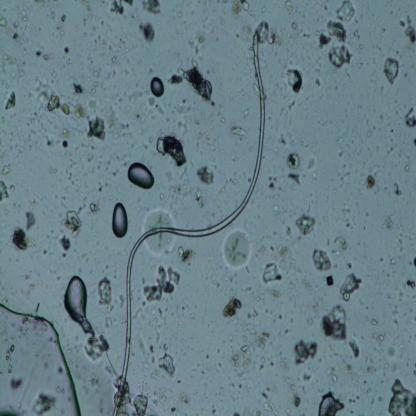Air bubble: (0, 300, 83, 416), (61, 275, 95, 339), (127, 162, 159, 190), (112, 204, 130, 240), (149, 75, 166, 101)
Background material: (222, 320, 284, 374), (142, 210, 178, 258), (140, 264, 182, 305), (219, 229, 255, 270), (384, 370, 416, 416), (185, 64, 216, 106), (156, 133, 188, 168), (320, 305, 349, 343), (290, 336, 323, 366), (27, 387, 60, 416), (106, 107, 132, 142), (0, 9, 24, 46), (253, 21, 287, 47), (269, 239, 295, 273), (259, 381, 284, 416), (176, 95, 200, 131), (338, 272, 364, 302), (46, 92, 74, 119), (328, 43, 355, 70), (314, 390, 344, 414), (85, 334, 108, 364), (74, 0, 101, 25), (106, 38, 130, 66), (285, 65, 305, 98), (221, 297, 245, 324), (294, 266, 314, 298), (324, 234, 348, 260), (0, 51, 24, 77), (230, 0, 261, 20), (168, 176, 190, 204), (382, 58, 404, 86), (193, 163, 218, 187), (84, 116, 107, 142), (340, 362, 362, 389), (30, 72, 50, 101), (60, 210, 84, 234), (261, 262, 283, 287), (155, 352, 177, 377), (26, 102, 42, 136), (334, 1, 362, 20), (11, 228, 30, 256), (327, 21, 350, 44), (310, 250, 334, 272), (96, 278, 113, 308), (339, 201, 357, 229), (295, 213, 316, 236), (129, 393, 153, 413), (260, 304, 285, 323), (286, 13, 304, 39), (4, 340, 16, 378), (146, 94, 166, 115), (35, 42, 54, 64), (56, 235, 73, 259), (55, 124, 72, 148), (140, 20, 156, 45), (360, 352, 376, 377), (174, 243, 193, 264), (348, 338, 363, 364), (83, 371, 101, 392), (7, 380, 27, 398), (194, 127, 211, 148), (286, 150, 302, 172), (362, 172, 378, 194), (402, 106, 416, 131), (128, 86, 146, 105), (140, 1, 164, 15), (90, 63, 99, 100), (327, 366, 342, 388), (0, 178, 13, 203), (288, 169, 304, 189), (23, 209, 38, 230), (230, 126, 252, 140), (108, 0, 126, 17), (165, 71, 184, 87), (264, 286, 283, 302), (380, 216, 396, 235), (4, 92, 19, 112), (339, 163, 353, 184), (189, 38, 205, 56), (374, 325, 386, 349), (133, 106, 147, 126), (392, 180, 406, 200), (280, 0, 297, 16), (86, 200, 102, 217), (0, 159, 15, 177), (314, 32, 333, 46), (25, 281, 38, 301), (280, 373, 296, 389), (193, 190, 205, 211), (63, 165, 75, 186), (73, 80, 87, 97), (244, 304, 261, 318), (399, 280, 416, 294), (265, 173, 278, 191), (322, 273, 336, 289), (299, 366, 312, 383), (405, 25, 416, 45), (291, 392, 303, 410), (400, 12, 412, 29), (94, 34, 107, 49), (94, 180, 105, 195), (239, 106, 252, 118), (347, 395, 359, 407), (169, 402, 179, 416), (154, 393, 165, 405), (285, 98, 298, 108), (176, 8, 184, 24), (45, 167, 59, 176), (41, 245, 50, 259), (313, 75, 323, 86), (278, 132, 286, 145), (146, 344, 156, 354), (342, 259, 352, 269), (388, 255, 398, 265), (60, 10, 67, 24), (378, 253, 387, 263), (118, 294, 123, 312), (335, 132, 343, 143), (353, 28, 360, 40), (46, 133, 52, 147), (108, 71, 116, 81), (230, 411, 246, 416), (63, 43, 70, 54), (51, 8, 58, 19), (314, 301, 320, 313), (102, 262, 110, 271), (306, 318, 314, 326), (369, 318, 378, 325), (410, 258, 416, 268), (367, 127, 372, 138), (404, 165, 411, 171), (126, 0, 134, 5), (221, 118, 226, 124), (200, 370, 204, 374)
Microfibre: (110, 32, 266, 414)
